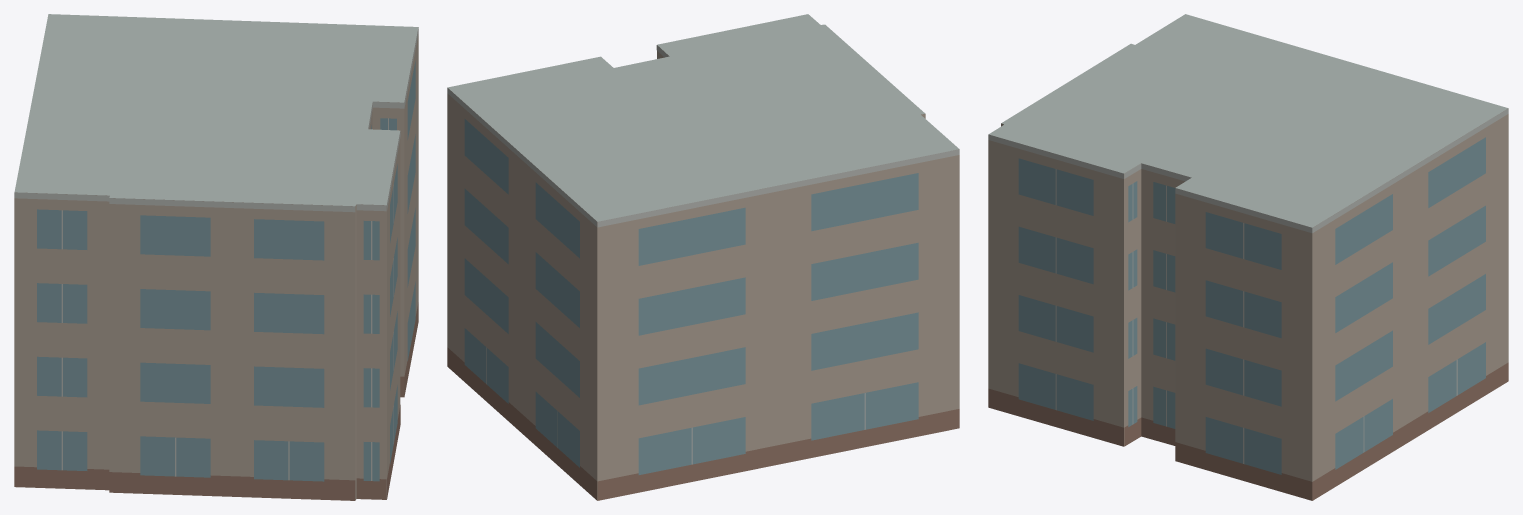
Rendered from survey-upis-32998961.glb.
3 views of the same model, side by side, from view 1: azimuth 30°, elevation 25°; view 2: azimuth 150°, elevation 25°; view 3: azimuth 270°, elevation 25° (orthographic). The views are drawn at different scales.
Parts seen in each view (by area): view 1: survey-upis-32998961.tmp; view 2: survey-upis-32998961.tmp; view 3: survey-upis-32998961.tmp.
Boxes of the visible parts, bbox=[...] form: survey-upis-32998961.tmp: bbox=[14, 14, 418, 500]; survey-upis-32998961.tmp: bbox=[447, 14, 959, 500]; survey-upis-32998961.tmp: bbox=[988, 14, 1508, 500].
Bounding box in the file's own units: 20.02 × 11.93 × 20.58.
